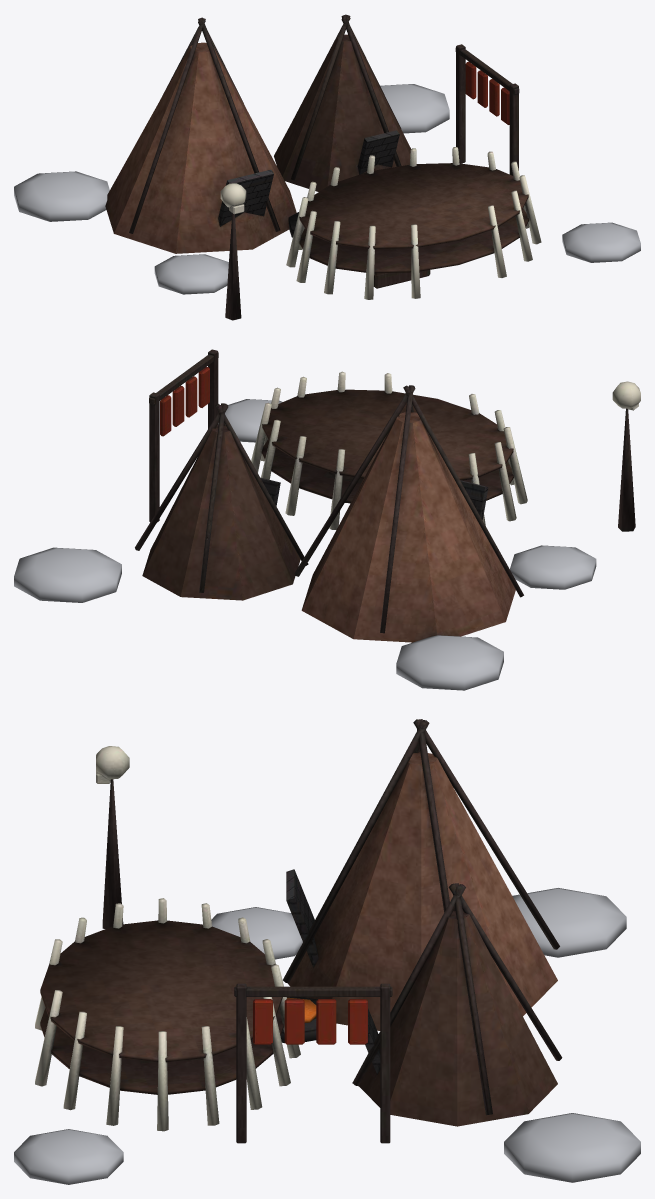
The model's file is asch_farm.glb.
3 views of the same model, one above another, from view 1: azimuth 30°, elevation 25°; view 2: azimuth 150°, elevation 25°; view 3: azimuth 270°, elevation 25° (orthographic). The views are drawn at different scales.
Visible parts, largest first — view 1: asch_farm, Schnee; view 2: asch_farm, Schnee; view 3: asch_farm, Schnee.
Part boxes in pixels (<box>): asch_farm: <box>105,14,541,320</box>; Schnee: <box>14,84,640,294</box>; asch_farm: <box>135,349,640,642</box>; Schnee: <box>14,399,596,690</box>; asch_farm: <box>35,719,562,1143</box>; Schnee: <box>14,888,640,1184</box>.
Bounding box in the file's own units: 4.71 × 2.15 × 4.36.
Materials: 2 (1 with a texture image).
